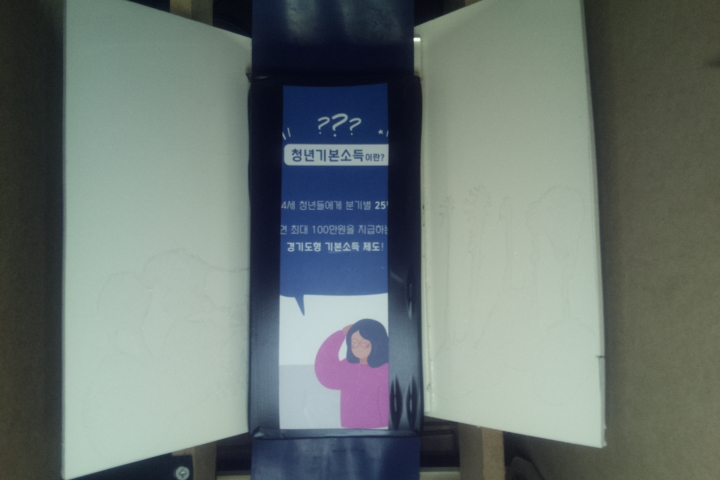book: (244, 73, 428, 441)
